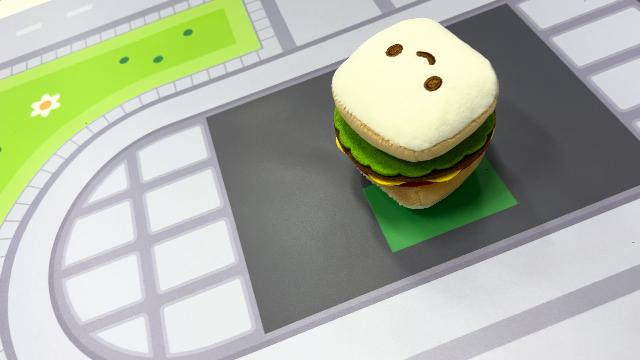sandwich: (328, 16, 502, 210)
